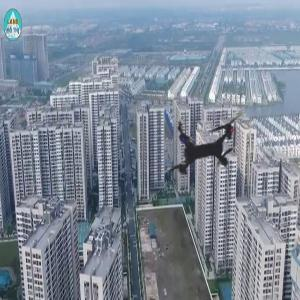drone: (132, 72, 281, 221)
